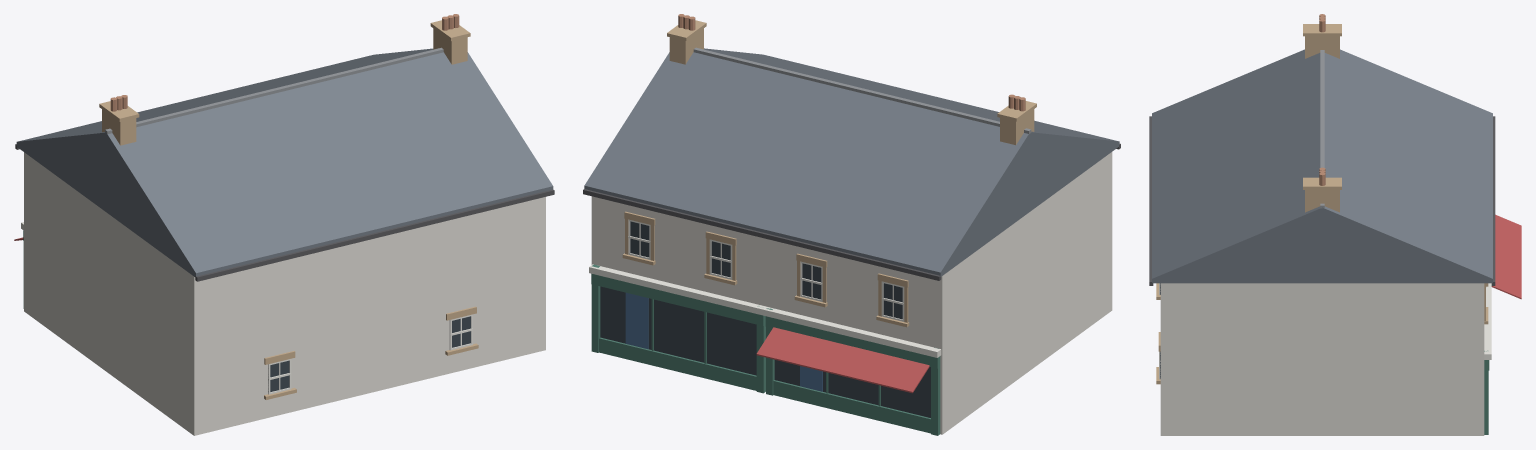
The model's file is shop2.glb.
3 views of the same model, side by side, from view 1: azimuth 30°, elevation 25°; view 2: azimuth 150°, elevation 25°; view 3: azimuth 270°, elevation 25° (orthographic). The views are drawn at different scales.
Parts seen in each view (by area): view 1: shop2; view 2: shop2; view 3: shop2.
Part boxes in pixels (x1,y1,x2,y2): shop2: [14, 14, 554, 435]; shop2: [583, 14, 1120, 435]; shop2: [1149, 14, 1521, 435].
Bounding box in the file's own units: 15.74 × 11.52 × 14.95.
